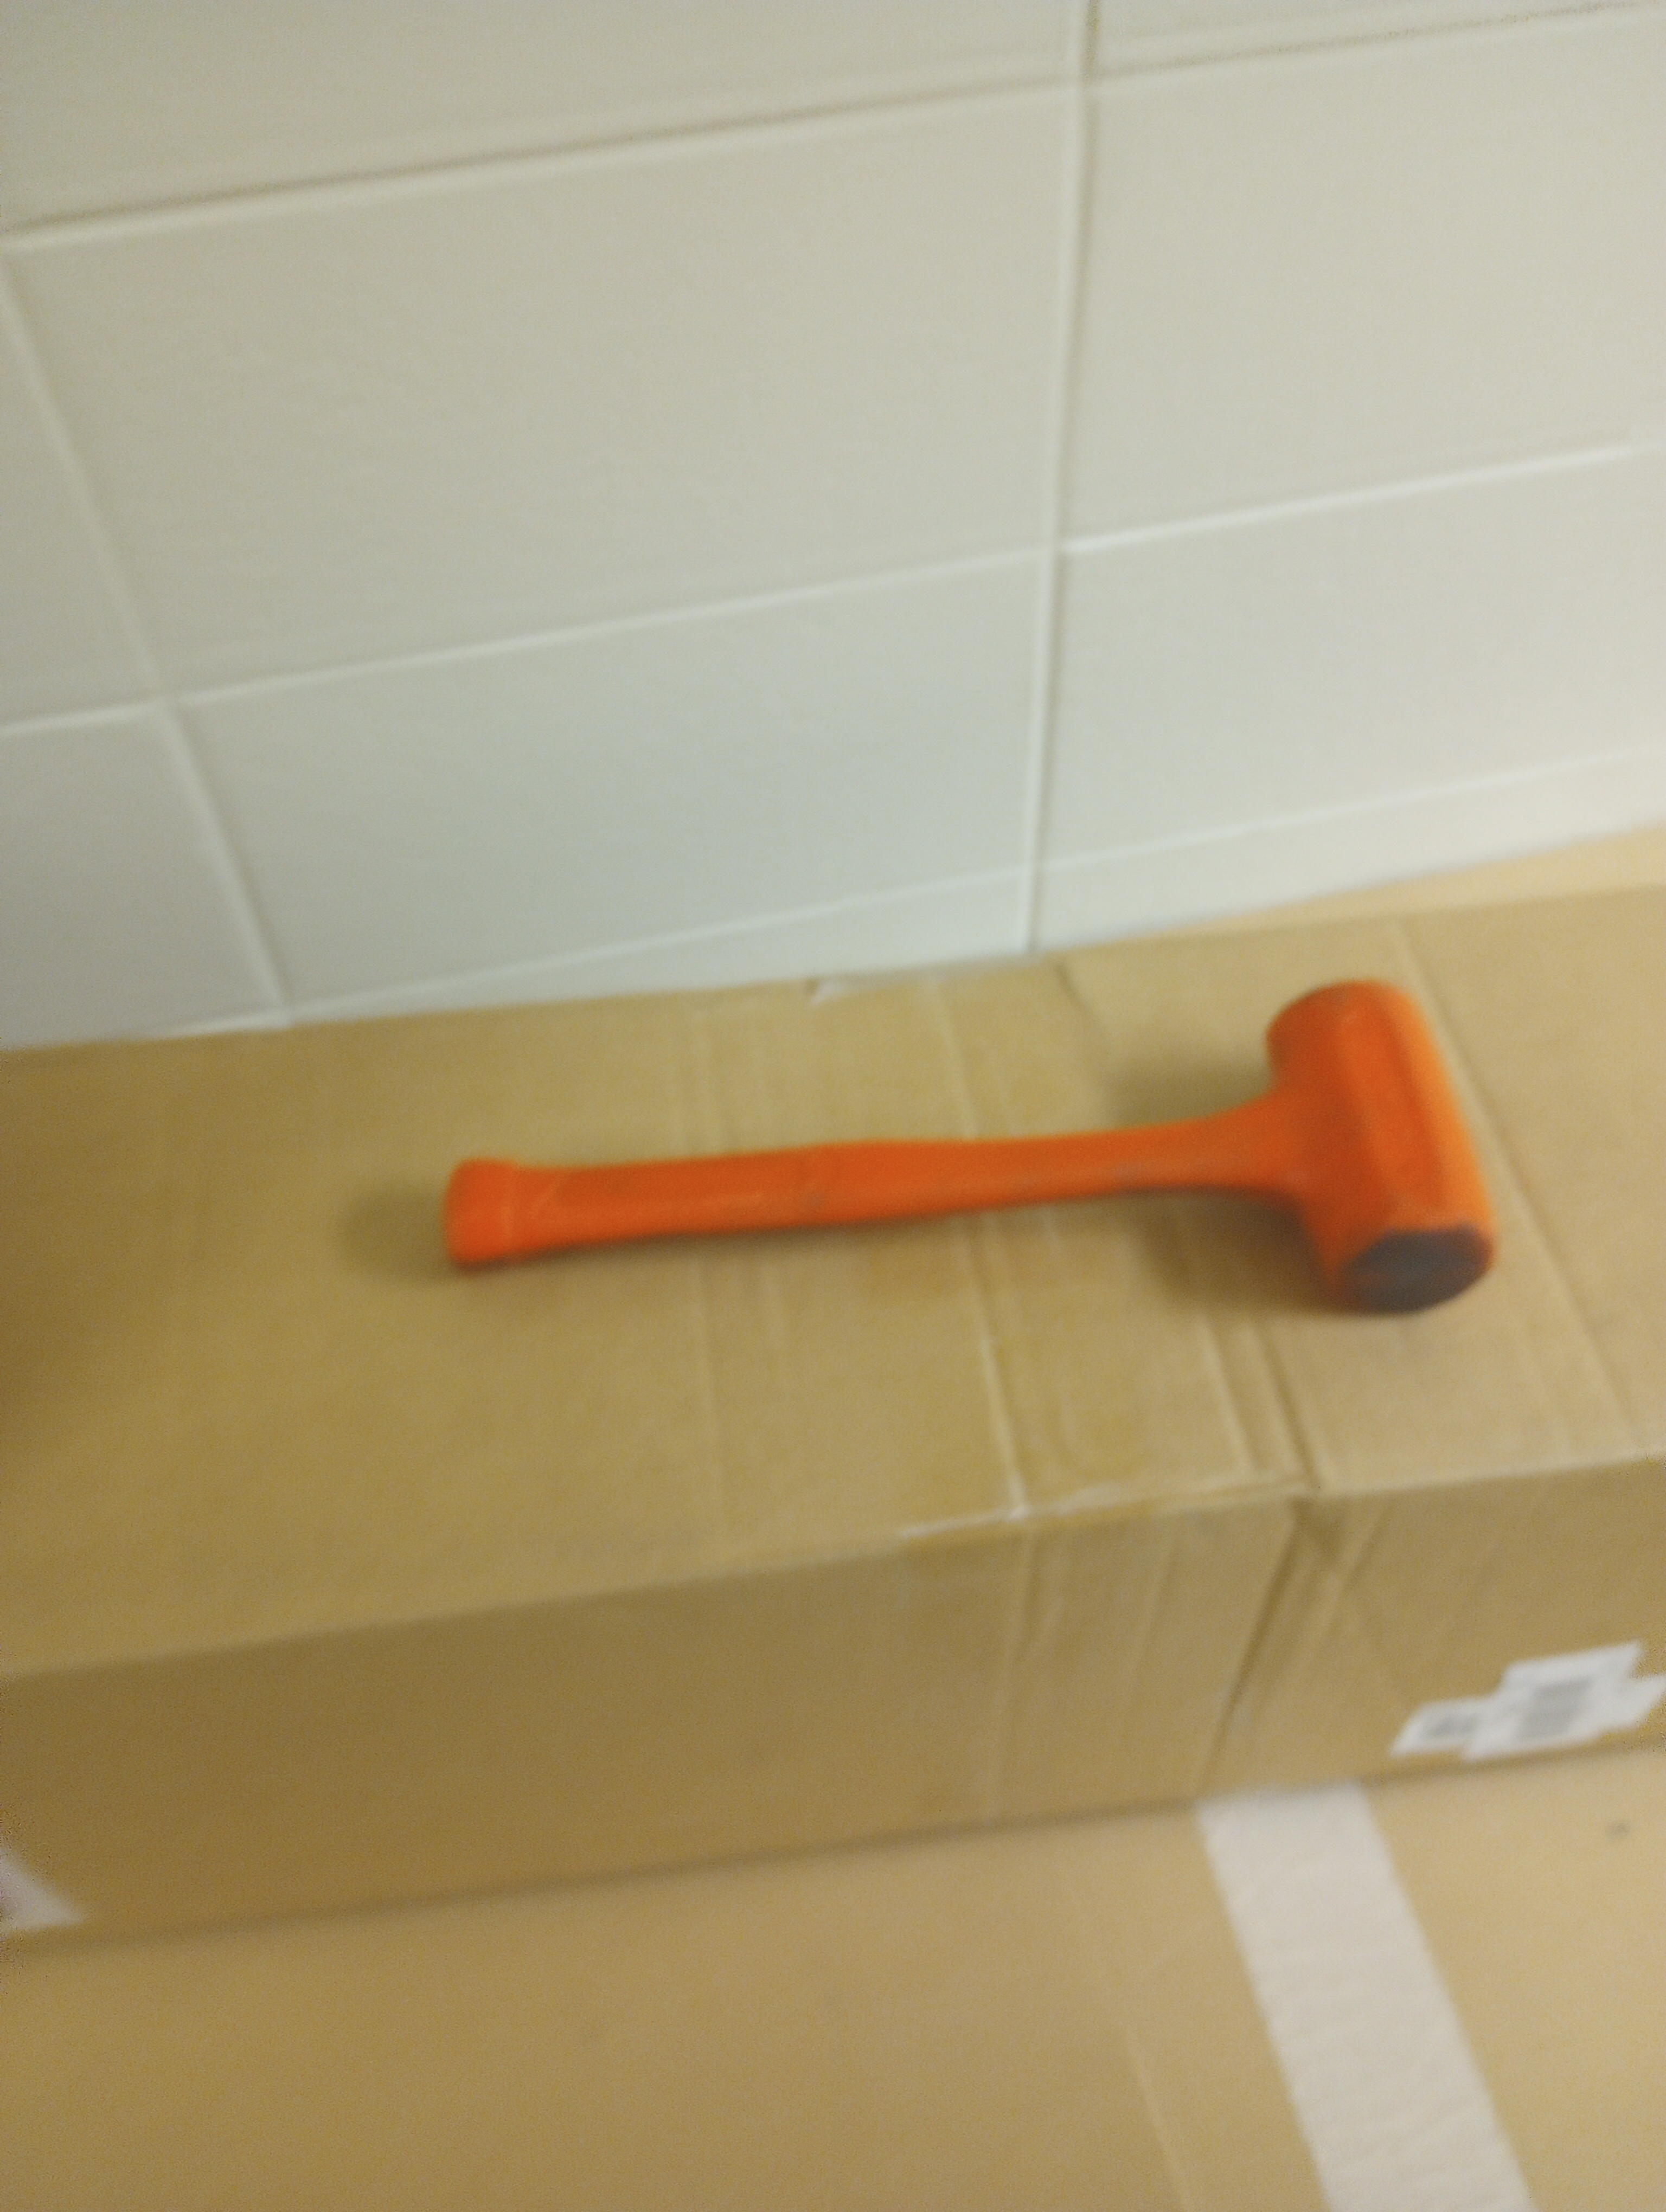bottle: (436, 967, 1503, 1336)
